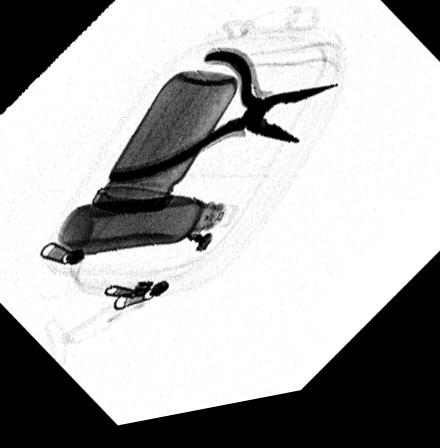Pliers: (110, 59, 341, 188)
